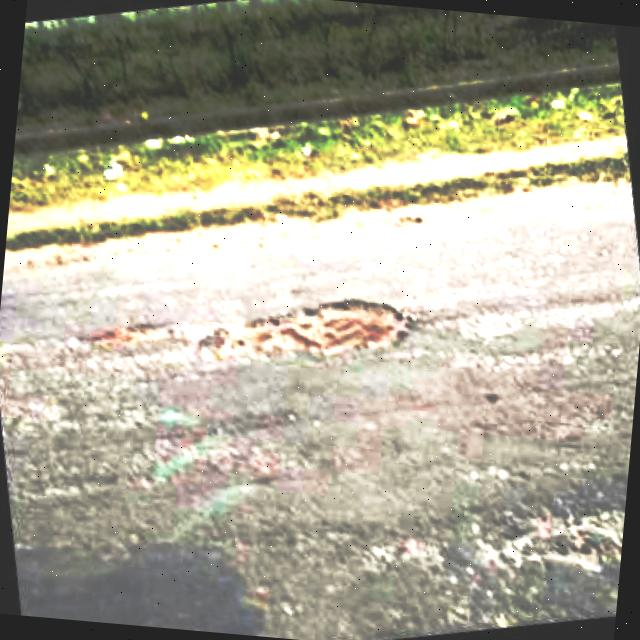pothole: (232, 282, 421, 372)
